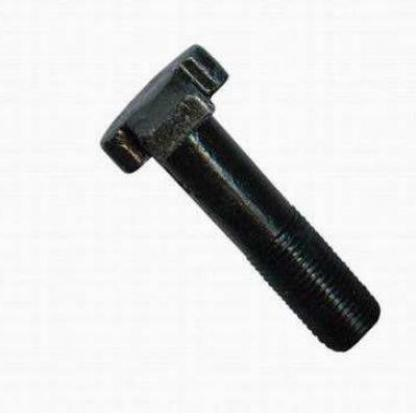FOD: (99, 37, 385, 352)
